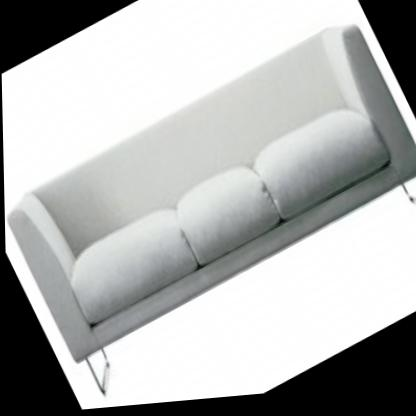Sofa: (1, 16, 416, 407)
